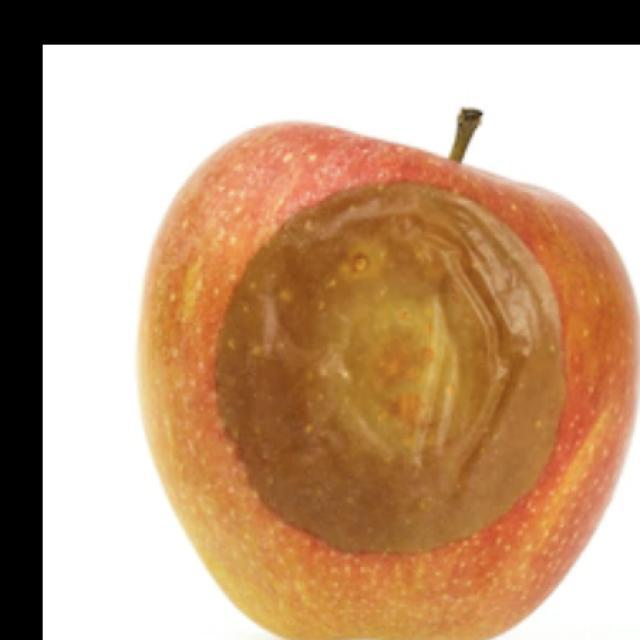Rotten: (136, 114, 640, 640)
